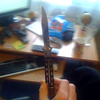knife: (41, 6, 54, 100)
